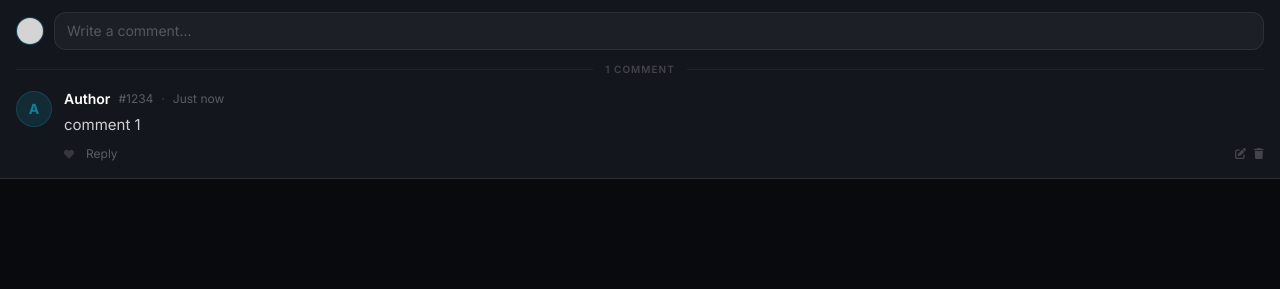
Test: CommentsSection — posting › prepends a new comment and increments the total
The width and height of the screenshot is (1280, 289).
expect the text "1 comment" is shown: met, box [605,62,675,77]
Step 1. Type "brand new" into the text box with placeholder "Write a comment..." → (655, 31), box [67,21,1243,41]
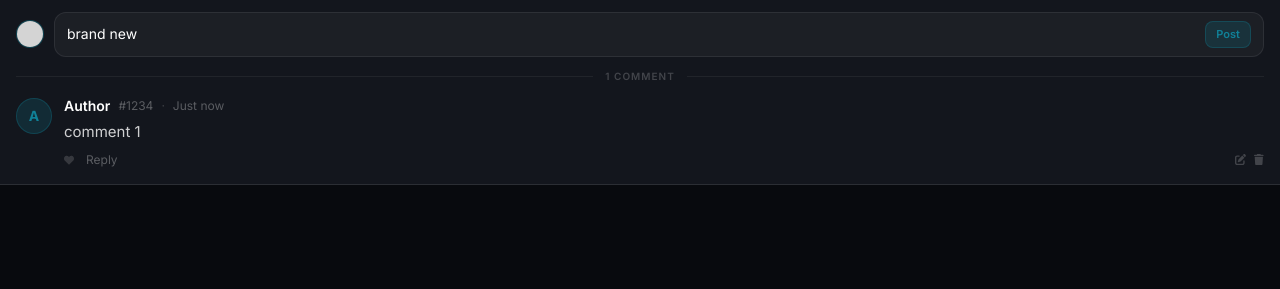
Step 2. Click the button "Post" → (1228, 34), box [1205,21,1251,48]
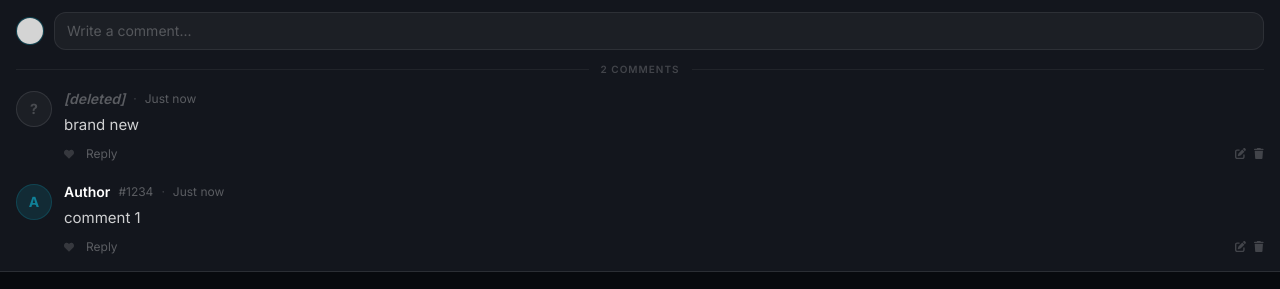
expect the text "brand new" is shown: met, box [64,115,139,134]
expect the text "2 comments" is shown: met, box [600,62,680,77]
